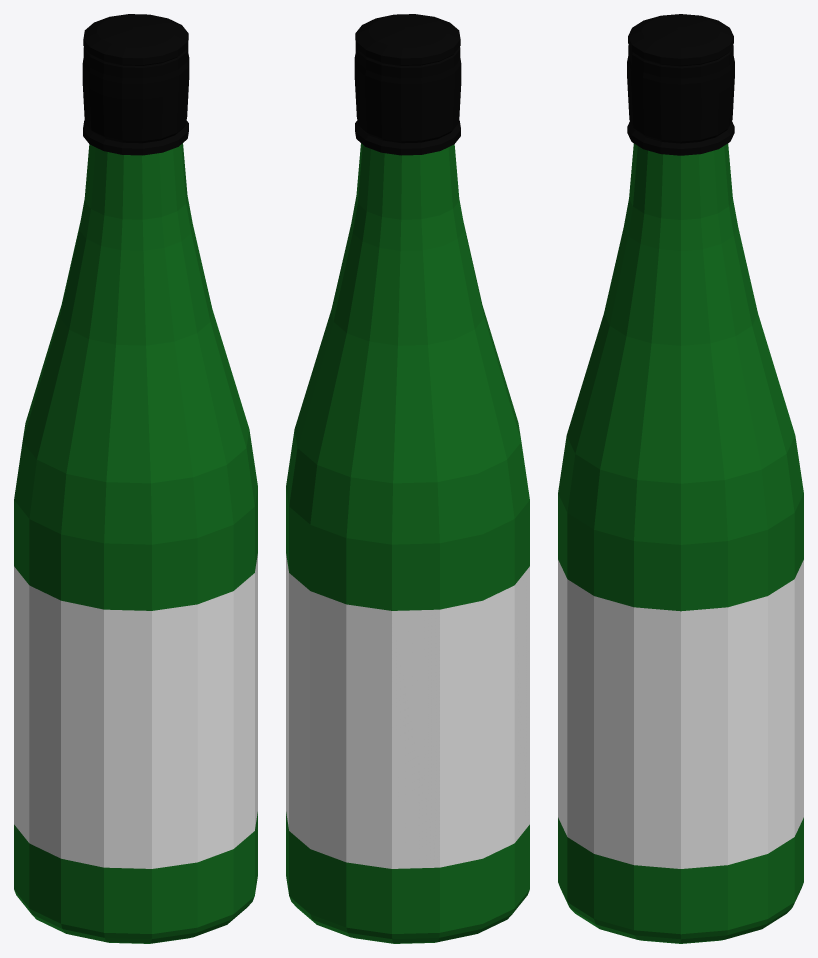
File: sake bottlefix.glb
3 views of the same model, side by side, from view 1: azimuth 30°, elevation 25°; view 2: azimuth 150°, elevation 25°; view 3: azimuth 270°, elevation 25° (orthographic).
Parts seen in each view (by area): view 1: Cylinder; view 2: Cylinder; view 3: Cylinder.
Boxes of the visible parts, box(x1,y1,x2,y2) form: Cylinder: box(14, 14, 257, 943); Cylinder: box(286, 14, 529, 943); Cylinder: box(558, 14, 803, 943).
Size of the model in its own units: 1.19 by 4.7 by 1.19.
